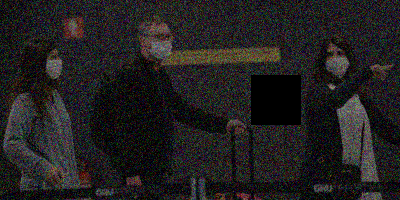with_mask: (146, 30, 176, 60), (323, 47, 351, 78), (46, 52, 64, 81)
